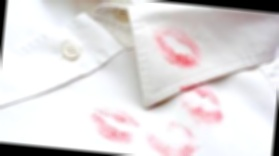lipstick: (152, 24, 202, 74), (86, 114, 138, 154), (183, 99, 231, 131), (143, 128, 194, 156), (175, 80, 225, 108), (95, 102, 140, 128), (163, 118, 191, 138)
